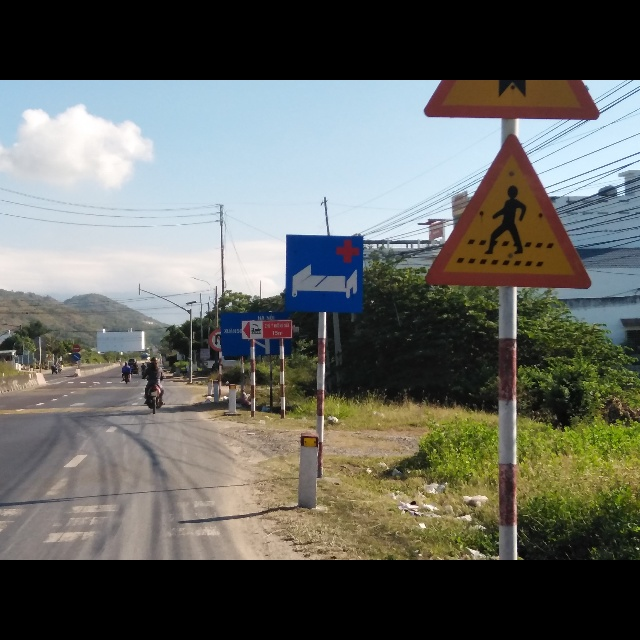Bệnh viện: (285, 233, 367, 315)
Đường người đi bộ sang đường: (424, 133, 593, 286)
